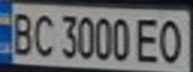0: (93, 14, 115, 62), (75, 12, 96, 61), (112, 15, 133, 63)
3: (57, 11, 78, 60)
B: (6, 8, 36, 57)
C: (30, 10, 57, 58)
E: (133, 15, 163, 64)
O: (154, 15, 190, 65)
